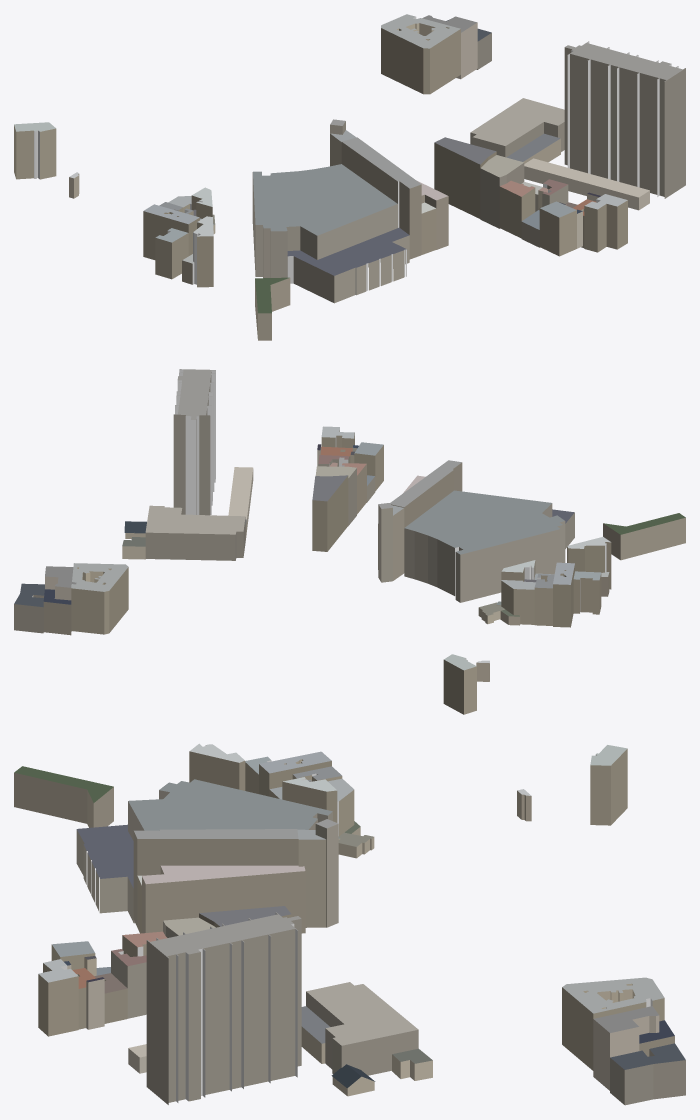
The picture shows the model from 3 angles, top to bottom: view 1: azimuth 30°, elevation 25°; view 2: azimuth 150°, elevation 25°; view 3: azimuth 270°, elevation 25°; orthographic projection. The views are drawn at different scales.
Parts seen in each view (by area): view 1: tuile; view 2: tuile; view 3: tuile.
Part boxes in pixels (x1,y1,x2,y2): tuile: (14,14,685,340); tuile: (14,369,685,714); tuile: (14,743,685,1105).
Bounding box in the file's own units: 274 × 65.07 × 257.
